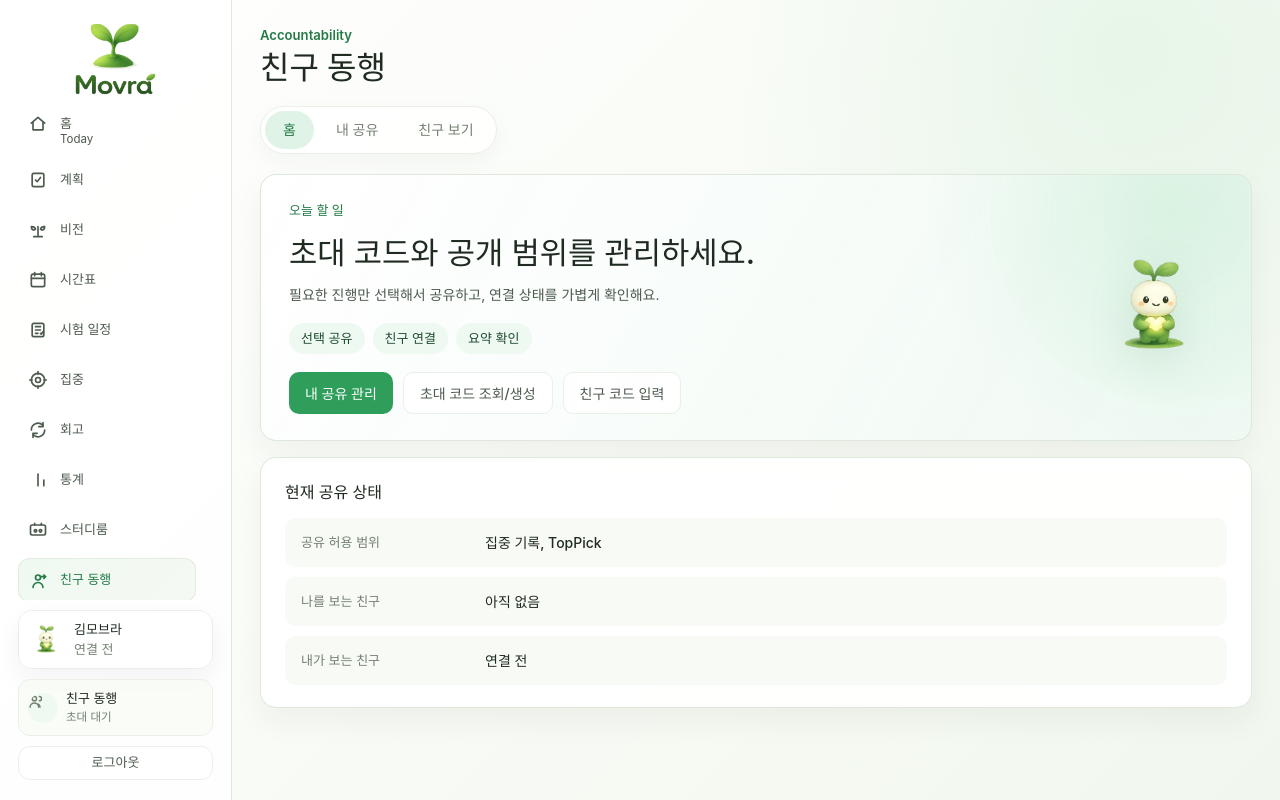
Test: AccountabilityPage › opens invite-code management from the overview
Check: the heading "친구 동행" is shown, box [260, 50, 386, 86]
Click the button "초대 코드 조회/생성" at (478, 393), box [403, 372, 553, 414]
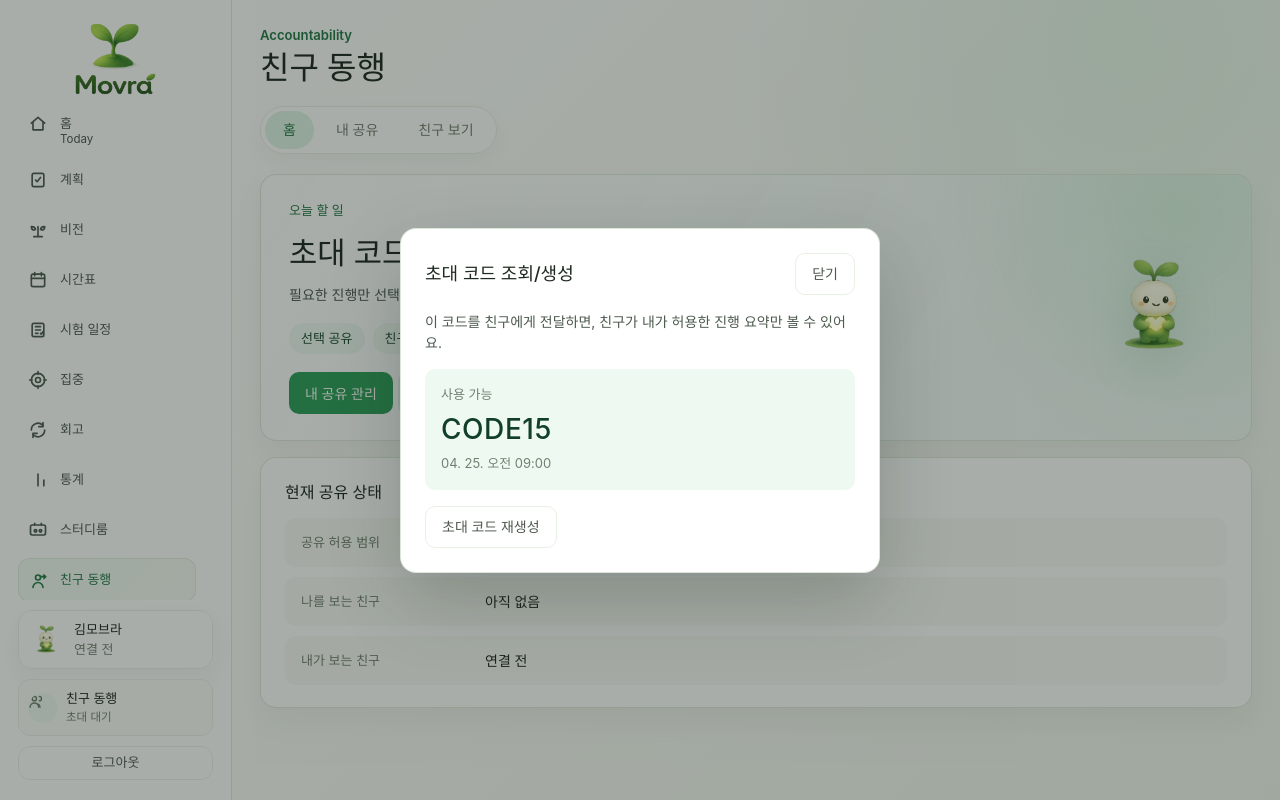
Check: the text "집중 기록, TopPick" is shown, box [485, 534, 602, 551]
Check: the text "CODE15" is shown, box [441, 412, 552, 446]
Click the button "초대 코드 재생성" at (491, 526), box [425, 506, 557, 548]
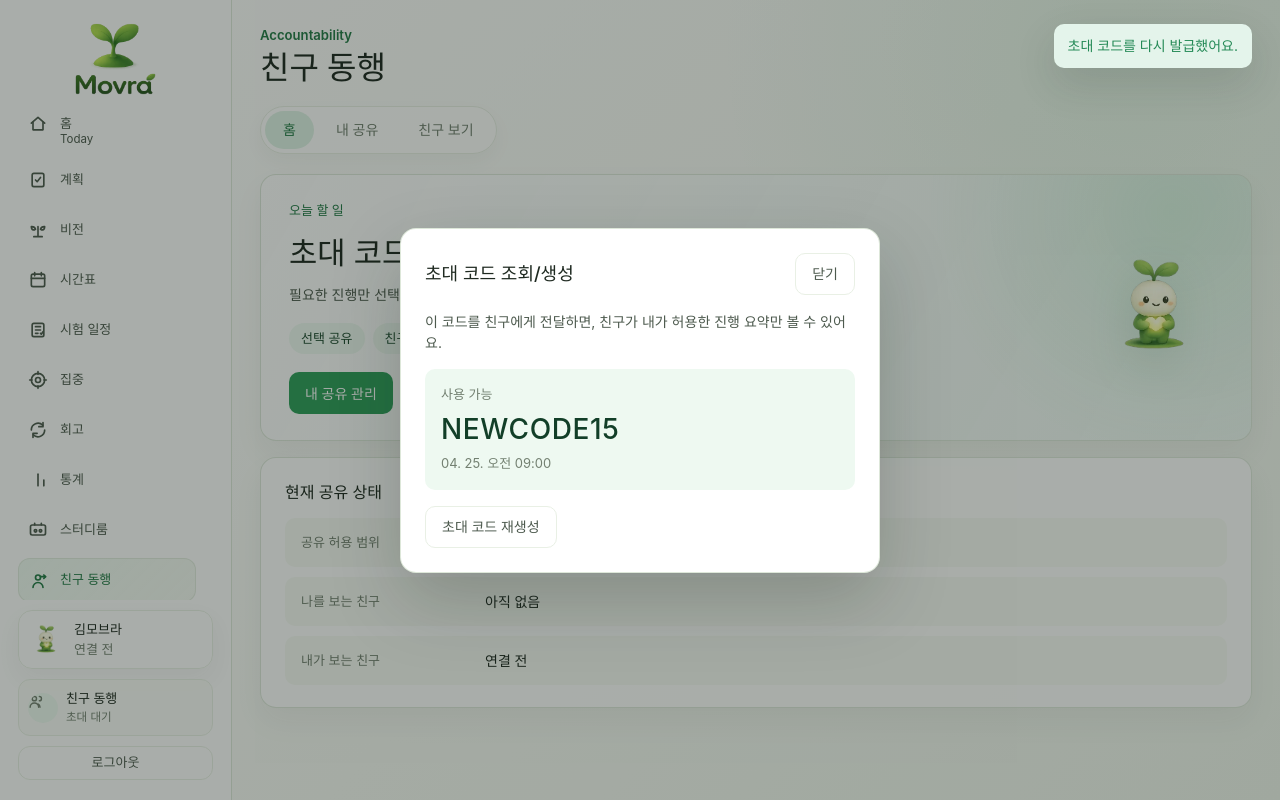
Check: the text "NEWCODE15" is shown, box [441, 412, 620, 446]
